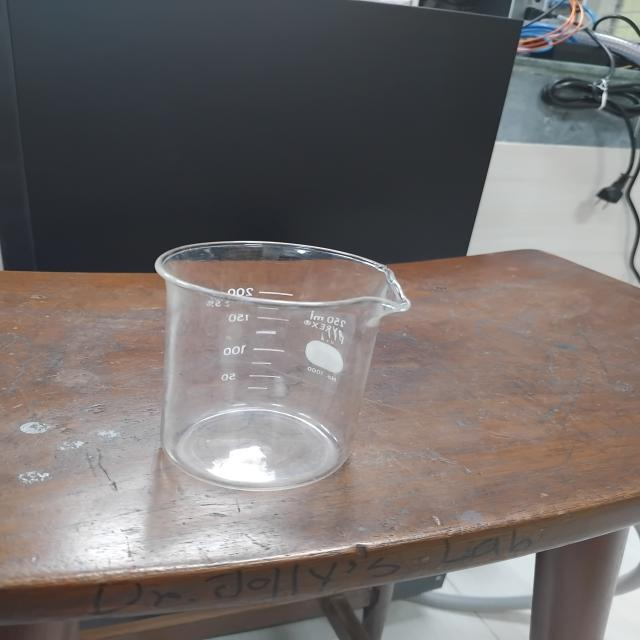Beaker: (102, 208, 444, 521)
